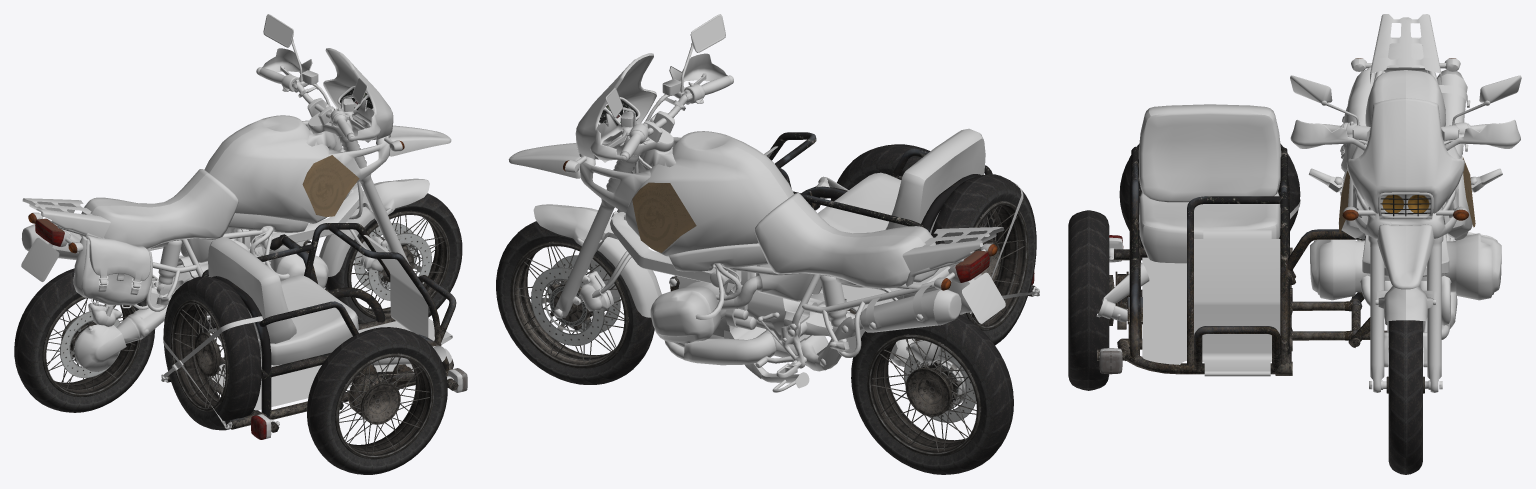
Rendered from Motorcycle02.FBX.
3 views of the same model, side by side, from view 1: azimuth 30°, elevation 25°; view 2: azimuth 150°, elevation 25°; view 3: azimuth 270°, elevation 25° (orthographic). The views are drawn at different scales.
Parts seen in each view (by area): view 1: Motorbike_03_Sidecart; view 2: Motorbike_03_Sidecart; view 3: Motorbike_03_Sidecart.
Boxes of the visible parts, x1,y1,x2,y2 form: Motorbike_03_Sidecart: [14, 14, 467, 474]; Motorbike_03_Sidecart: [496, 14, 1039, 474]; Motorbike_03_Sidecart: [1068, 14, 1521, 474].
Size of the model in its own units: 211 by 138 by 162.
